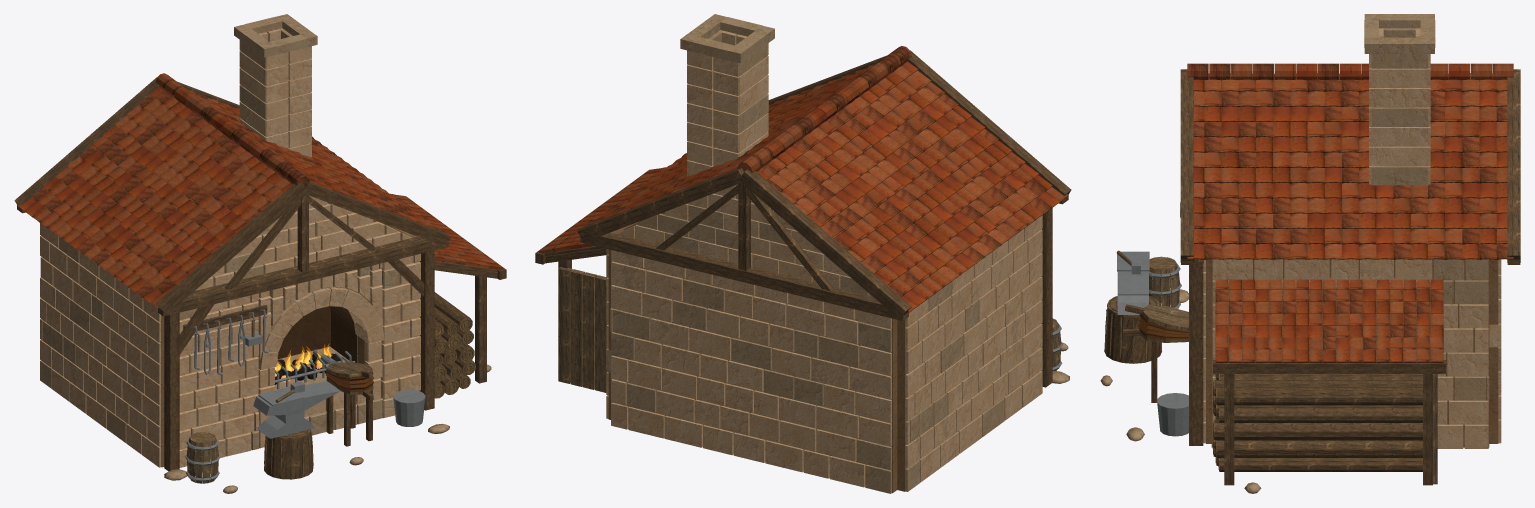
The model's file is smithy.glb.
The picture shows the model from 3 angles, left to right: view 1: azimuth 30°, elevation 25°; view 2: azimuth 150°, elevation 25°; view 3: azimuth 270°, elevation 25°; orthographic projection. The views are drawn at different scales.
Visible parts, largest first — view 1: smithy_Structure, smithy_Bellows_Top, smithy_Bellows_Leather; view 2: smithy_Structure; view 3: smithy_Structure, smithy_Bellows_Top, smithy_Bellows_Leather.
Boxes of the visible parts, x1,y1,x2,y2 form: smithy_Structure: (14, 14, 506, 493); smithy_Bellows_Top: (326, 362, 372, 378); smithy_Bellows_Leather: (325, 371, 373, 391); smithy_Structure: (535, 14, 1071, 493); smithy_Structure: (1100, 14, 1520, 493); smithy_Bellows_Top: (1125, 304, 1188, 331); smithy_Bellows_Leather: (1138, 314, 1188, 339).
Size of the model in its own units: 6.2 by 5.39 by 5.38.
Materials: 18 (12 with a texture image).
